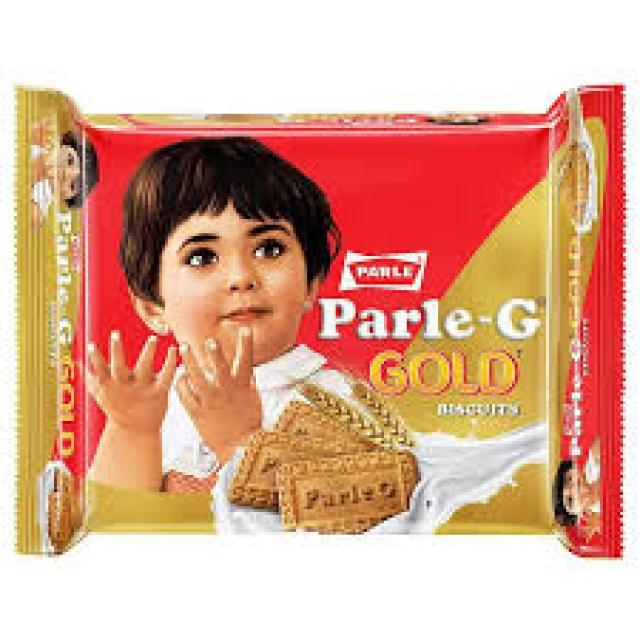parle-g: (15, 85, 628, 557)
